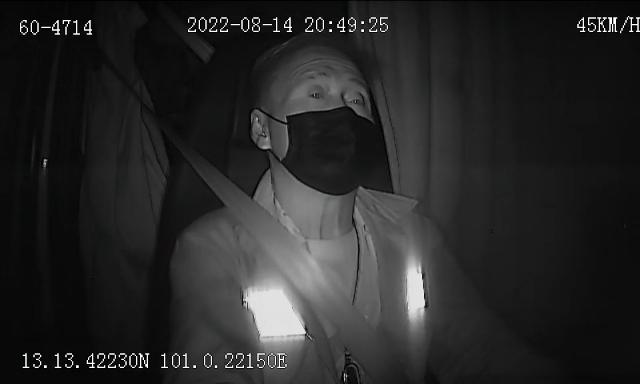Seatbelt: (164, 130, 384, 384)
